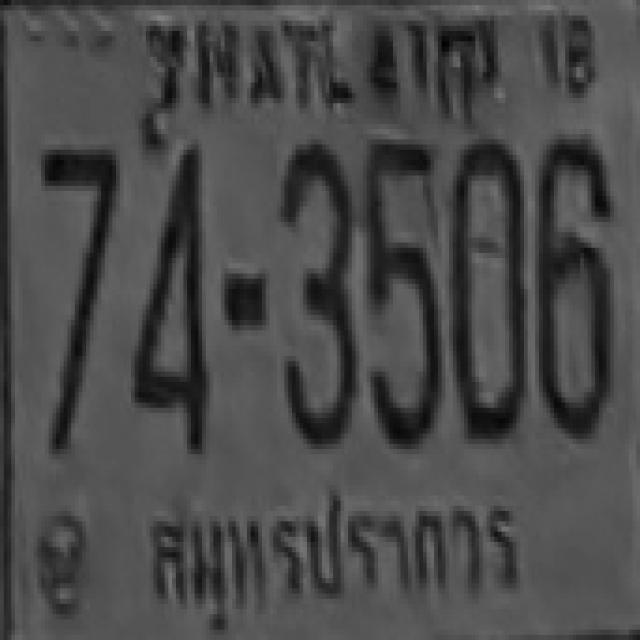0: (445, 134, 524, 439)
3: (279, 139, 354, 444)
4: (129, 139, 204, 449)
5: (366, 135, 440, 444)
6: (533, 132, 612, 431)
7: (37, 144, 116, 433)
SamutPrakan: (136, 478, 524, 631)
